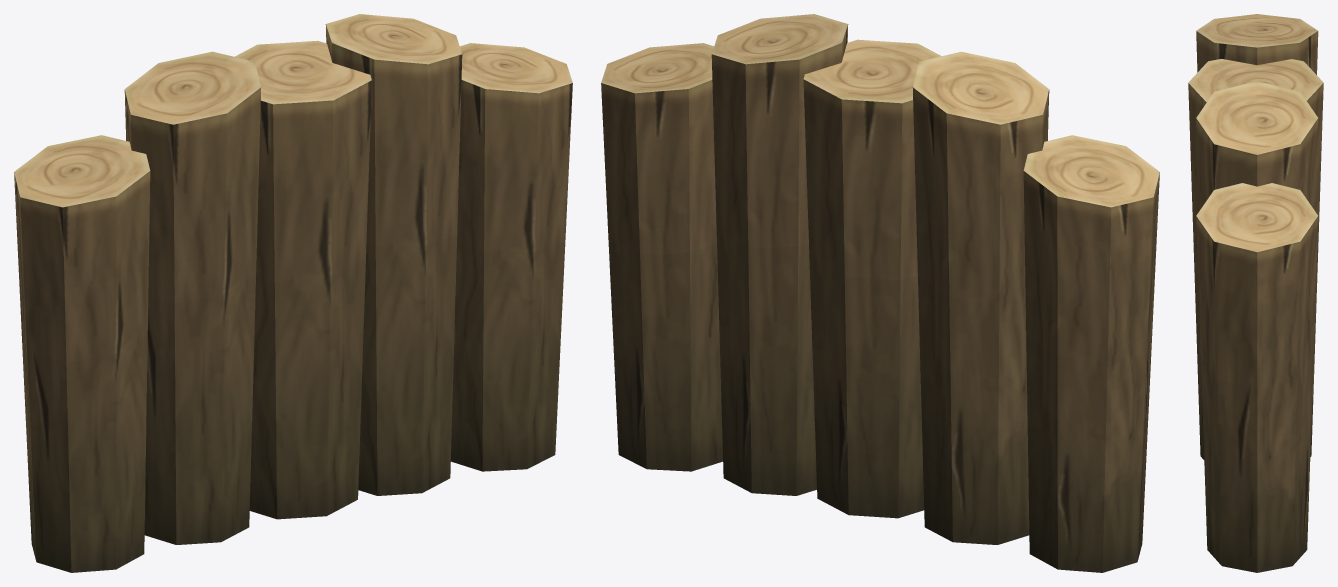
File: wooden_fence_51.fbx
3 renders of one model, left to right at view 1: azimuth 30°, elevation 25°; view 2: azimuth 150°, elevation 25°; view 3: azimuth 270°, elevation 25°, orthographic. The views are drawn at different scales.
Visible parts, largest first — view 1: wooden_fence_51:Mesh; view 2: wooden_fence_51:Mesh; view 3: wooden_fence_51:Mesh.
Part boxes in pixels (box(x1,y1,x2,y2)): wooden_fence_51:Mesh: box(14, 14, 572, 572); wooden_fence_51:Mesh: box(601, 14, 1159, 572); wooden_fence_51:Mesh: box(1188, 14, 1323, 572).
Bounding box in the file's own units: 4.35 × 3.4 × 1.05.
